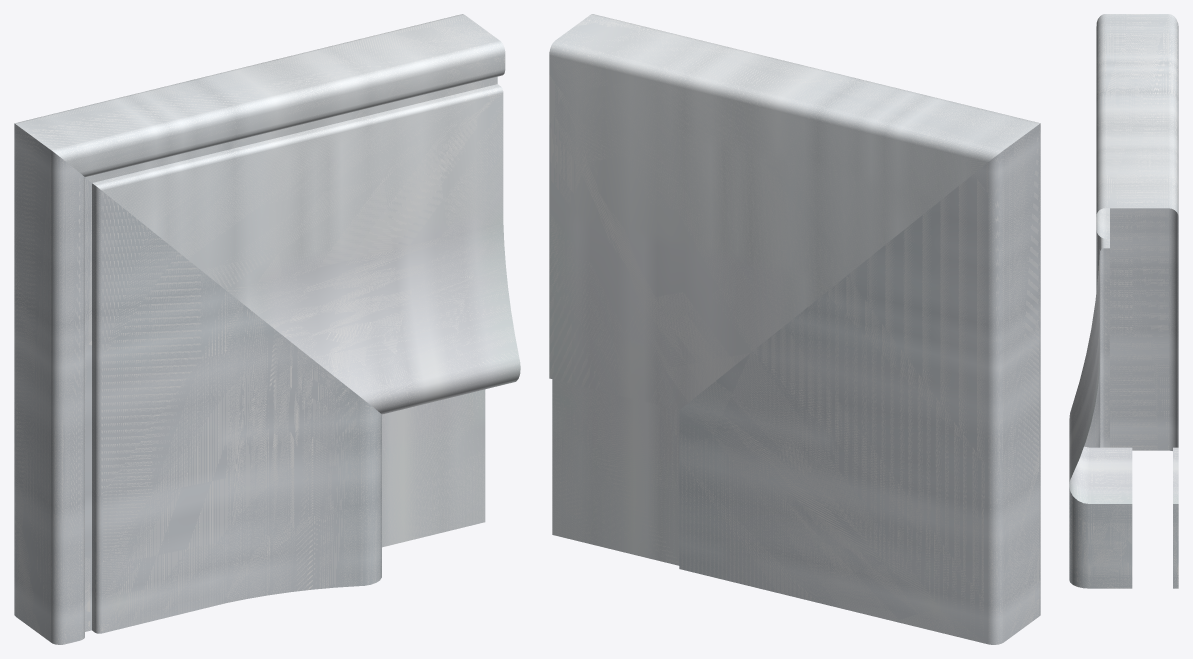
The model's file is original-25.obj.
3 renders of one model, left to right at view 1: azimuth 30°, elevation 25°; view 2: azimuth 150°, elevation 25°; view 3: azimuth 270°, elevation 25°, orthographic. The views are drawn at different scales.
Parts seen in each view (by area): view 1: TB_11_BL1/TB_11_BL/mesh15/mesh15-geometry#mesh15-geometry; view 2: TB_11_BL1/TB_11_BL/mesh15/mesh15-geometry#mesh15-geometry; view 3: TB_11_BL1/TB_11_BL/mesh15/mesh15-geometry#mesh15-geometry.
Part boxes in pixels (<box>): TB_11_BL1/TB_11_BL/mesh15/mesh15-geometry#mesh15-geometry: <box>14,14,520,644</box>; TB_11_BL1/TB_11_BL/mesh15/mesh15-geometry#mesh15-geometry: <box>549,14,1040,644</box>; TB_11_BL1/TB_11_BL/mesh15/mesh15-geometry#mesh15-geometry: <box>1069,14,1178,588</box>.
Size of the model in its own units: 0.1357 by 0.1422 by 0.0323.
